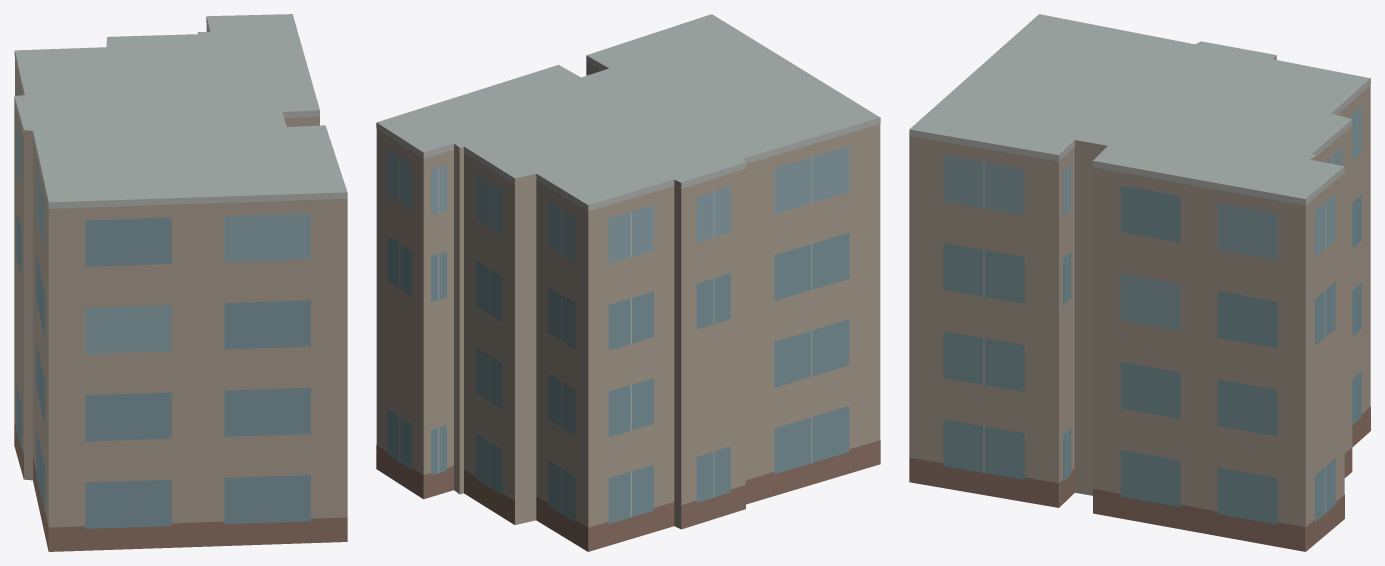
File: survey-upis-32976061.glb
3 renders of one model, left to right at view 1: azimuth 30°, elevation 25°; view 2: azimuth 150°, elevation 25°; view 3: azimuth 270°, elevation 25°, orthographic.
Visible parts, largest first — view 1: survey-upis-32976061.tmp; view 2: survey-upis-32976061.tmp; view 3: survey-upis-32976061.tmp.
Boxes of the visible parts, x1,y1,x2,y2 form: survey-upis-32976061.tmp: [14, 14, 347, 551]; survey-upis-32976061.tmp: [376, 14, 880, 551]; survey-upis-32976061.tmp: [909, 14, 1370, 551].
Bounding box in the file's own units: 14.97 × 13.29 × 15.77.
